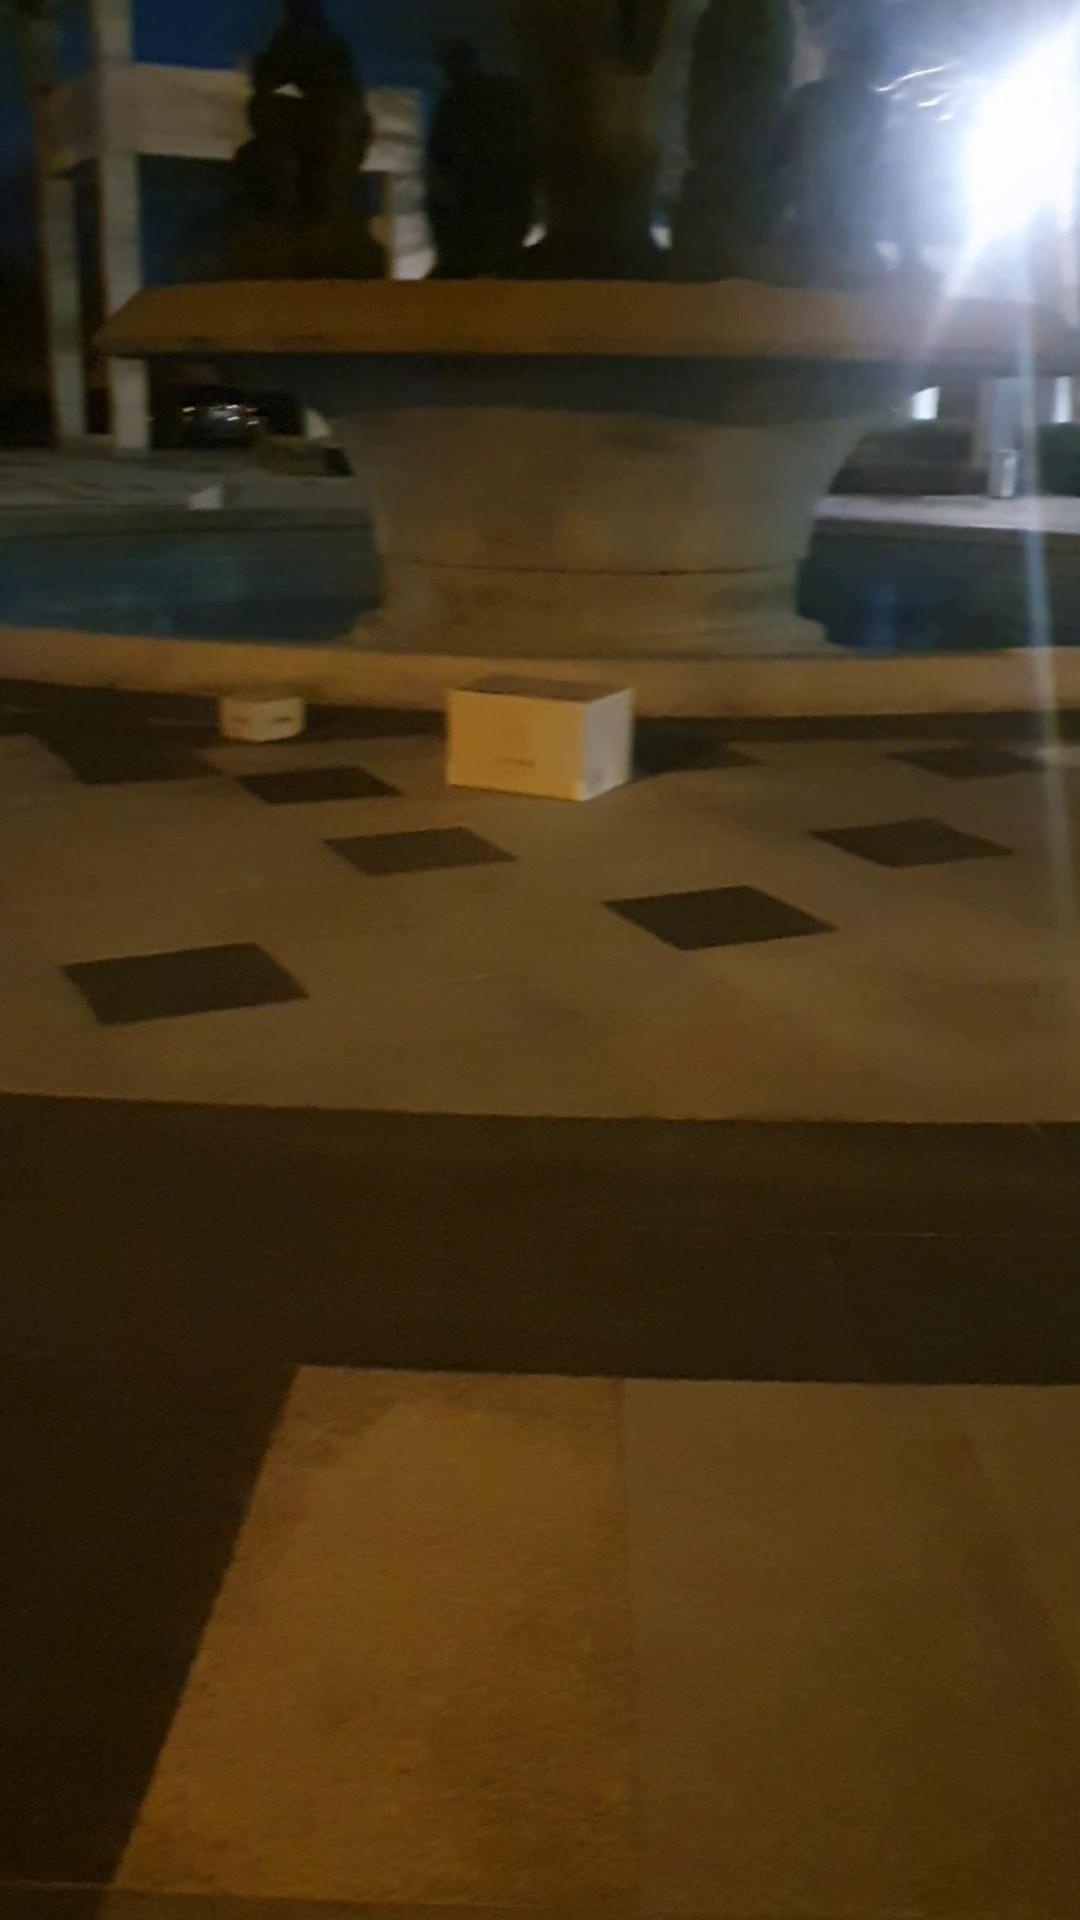Box: (448, 658, 626, 808), (189, 669, 307, 748)
